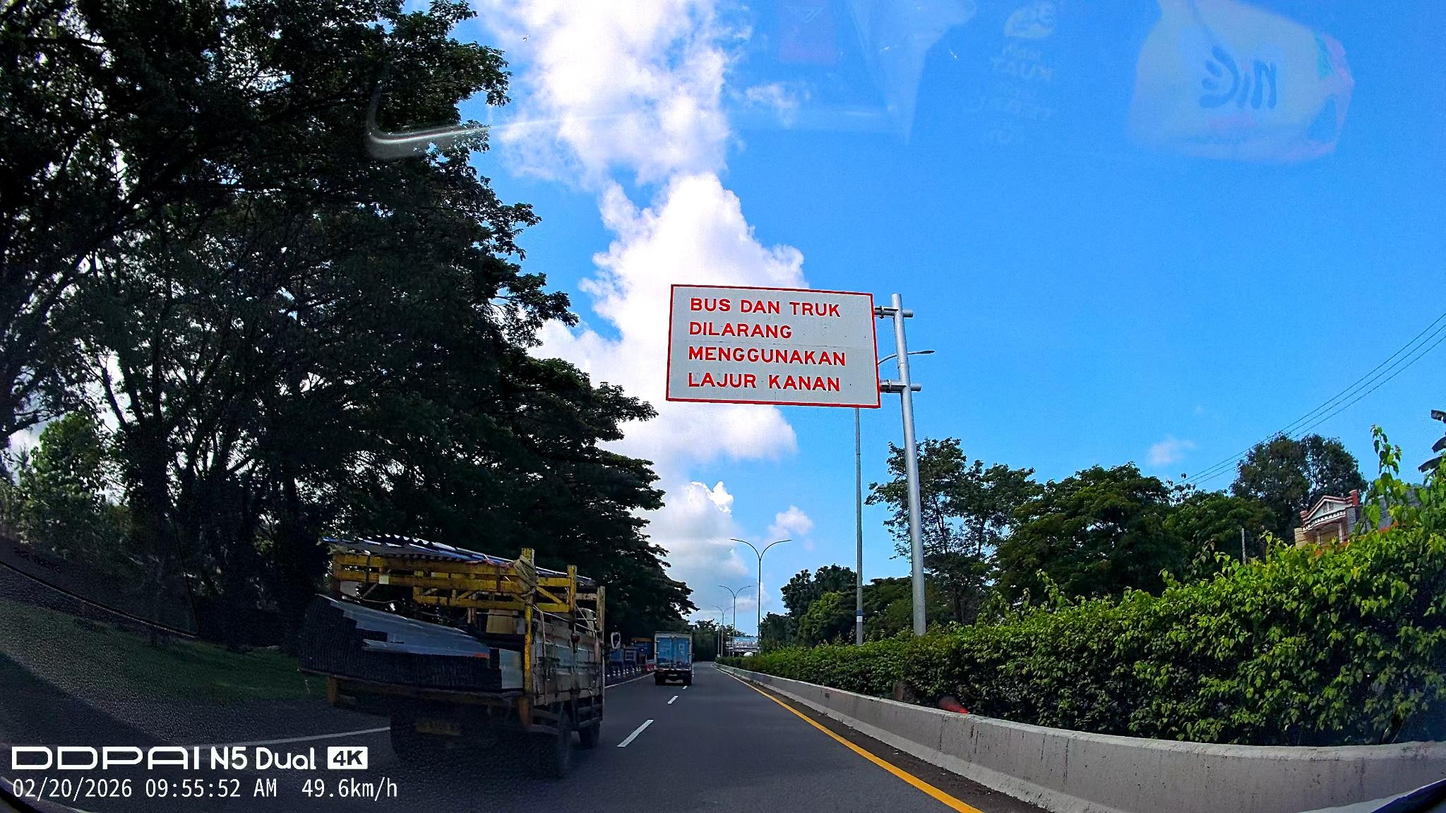rambu_teks: (664, 282, 883, 410)
